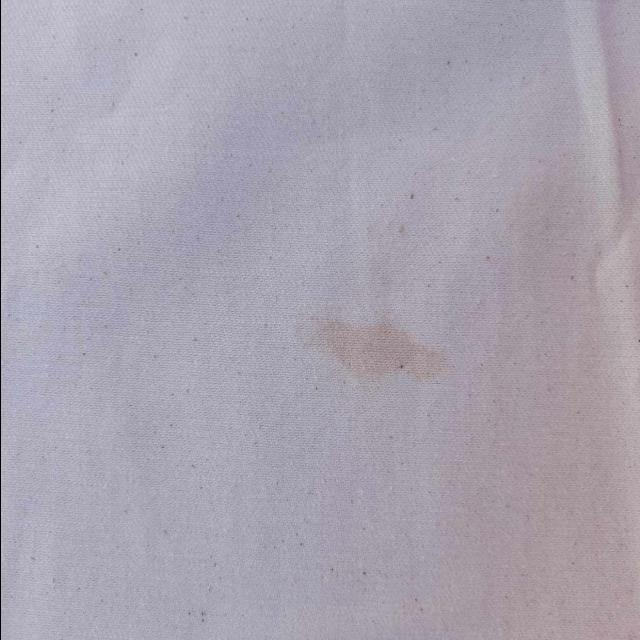taaaches: (312, 276, 448, 414)
